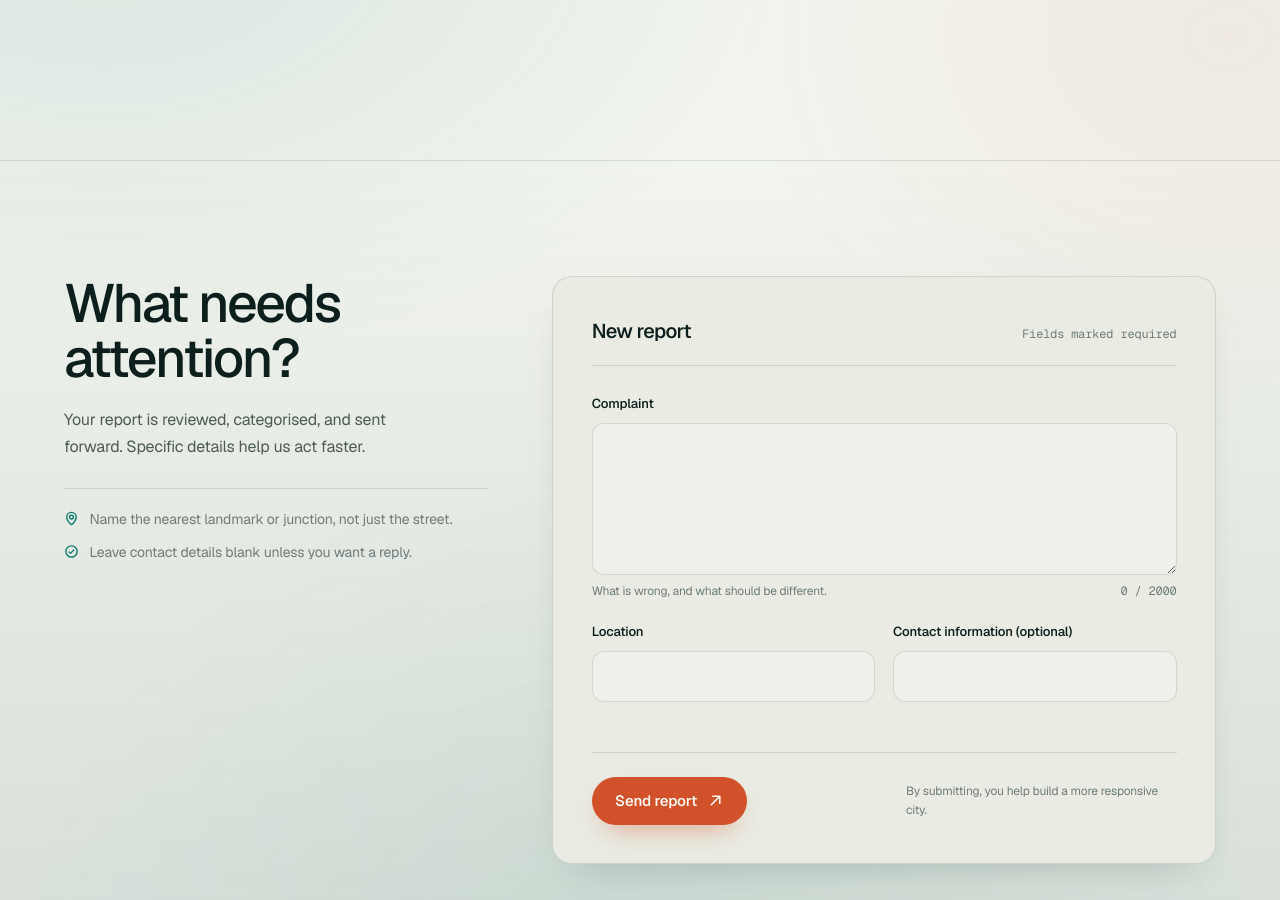
Test: SubmitPage › renders category, priority, summary, and provider after success
(page scrolled)
Step 1. Type "The streetlight is broken" into the text box labelled "Complaint" → (884, 499), box [592,423,1177,575]
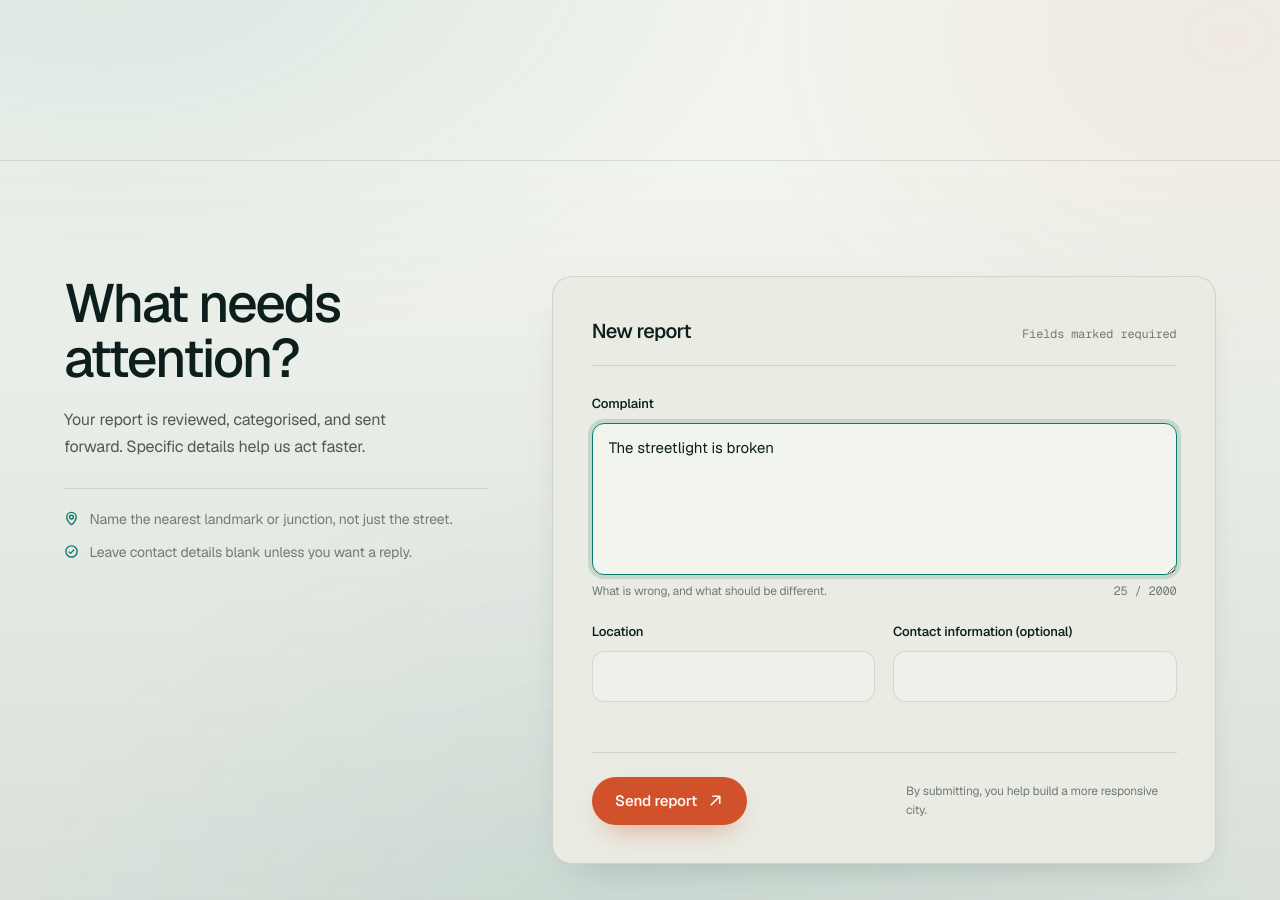
Step 2. Type "Civic Center" into the field labelled "Location" → (734, 676), box [592,651,875,702]
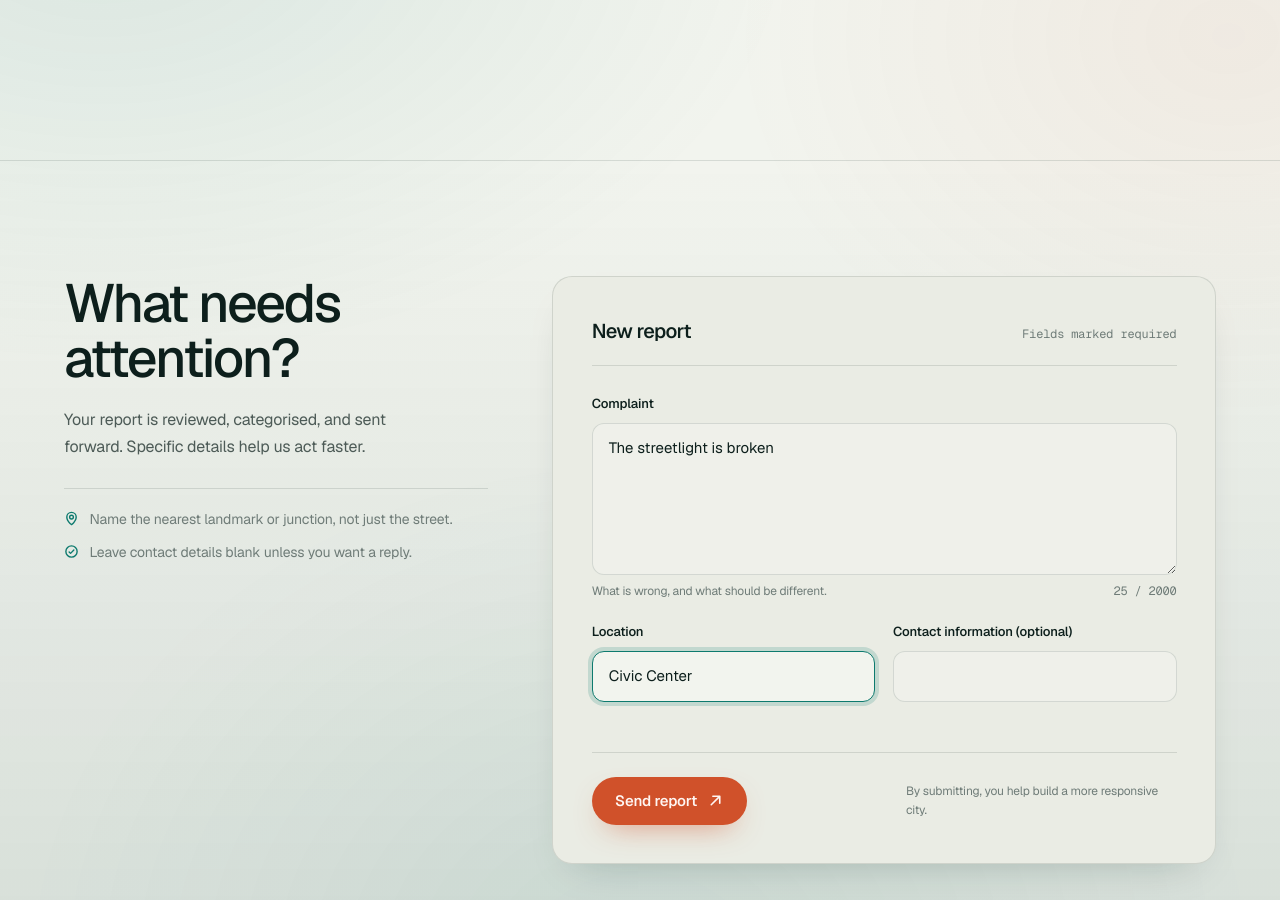
Step 3. Click the button "Send report" → (669, 801), box [592,777,747,825]
(page scrolled)
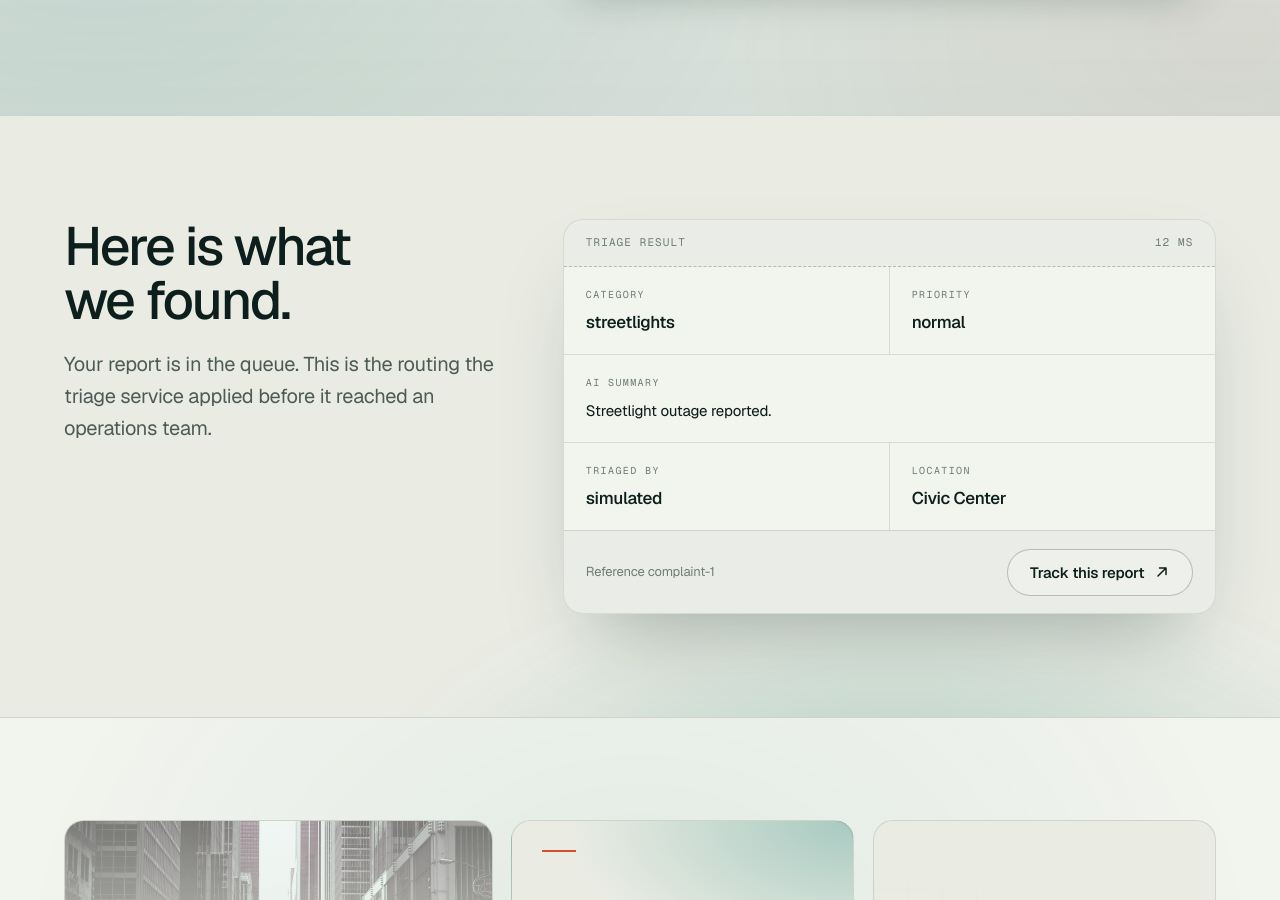
Check: the text "streetlights" is shown, box [586,311,675,333]
Check: the text "normal" is shown, box [912,311,965,333]
Check: the text "Streetlight outage reported." is shown, box [586,401,771,420]
